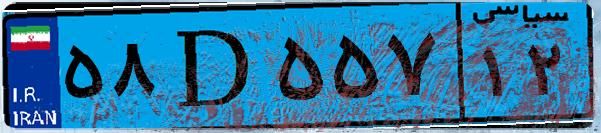1: (475, 38, 525, 113)
2: (525, 38, 570, 115)
5: (270, 28, 330, 110), (330, 28, 385, 110), (57, 26, 110, 100)
7: (385, 28, 445, 110)
8: (110, 28, 158, 98)
D: (158, 12, 270, 120)
